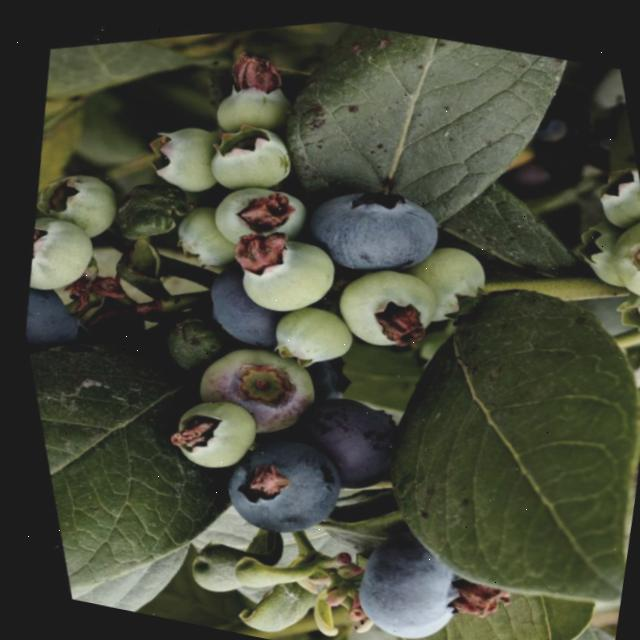RipeBlueBerry: (191, 406, 362, 560), (320, 505, 467, 640)
UnripeBlueBerry: (317, 239, 454, 367), (217, 208, 349, 329), (189, 98, 306, 207), (16, 196, 109, 304)
